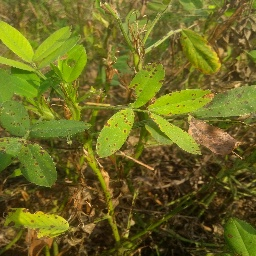GroundNut_Leaf: (1, 141, 58, 188), (180, 26, 221, 77), (149, 117, 203, 155), (96, 109, 135, 157), (6, 209, 68, 238), (147, 89, 214, 115), (35, 26, 72, 70), (1, 21, 34, 65), (216, 85, 256, 119), (32, 115, 90, 136), (225, 218, 256, 255), (1, 101, 29, 137), (1, 75, 39, 99), (129, 74, 146, 106)
